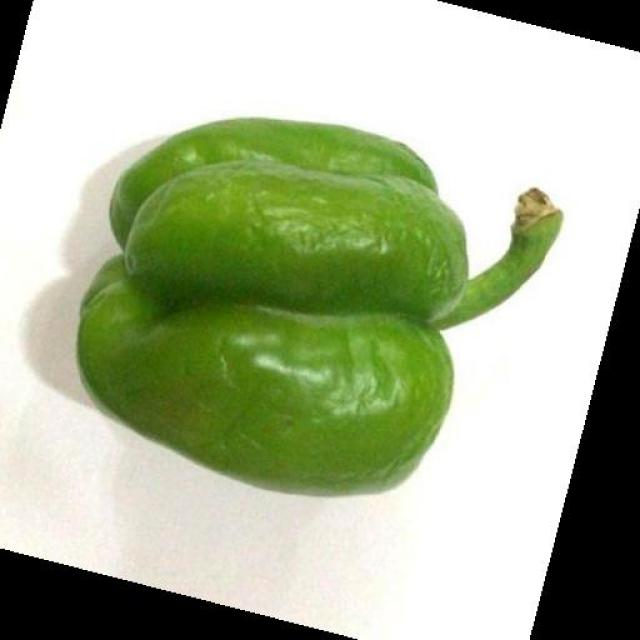Fresh_Capsicum: (117, 94, 561, 462)
